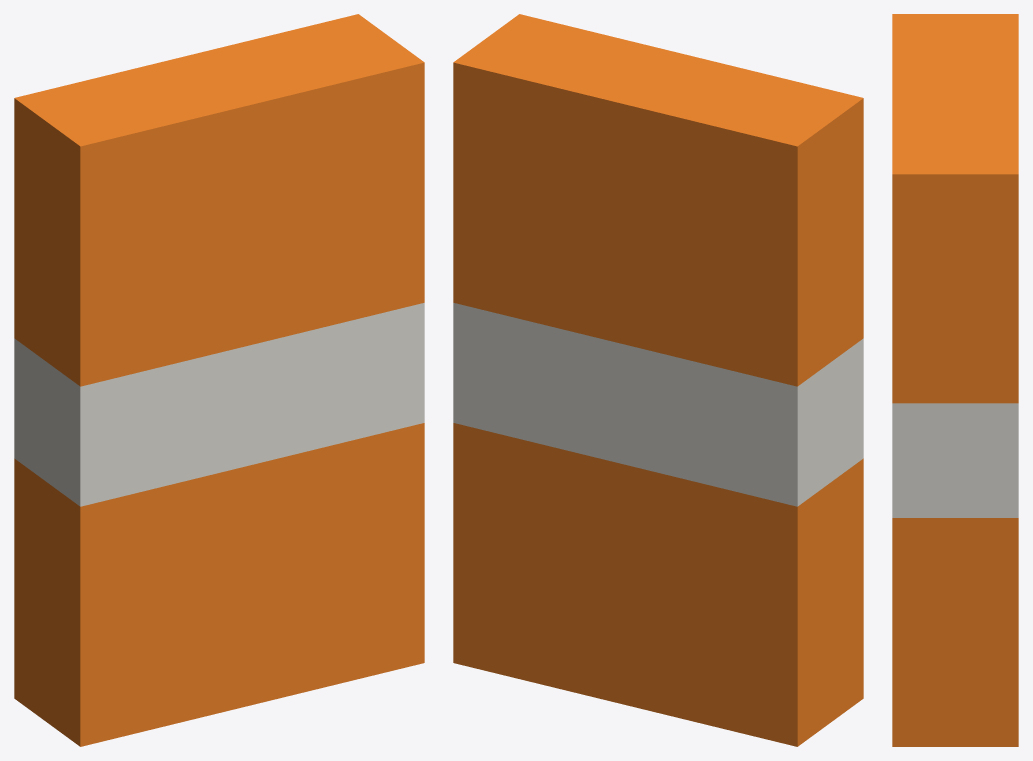
Rendered from cm_cloth_5.glb.
3 renders of one model, left to right at view 1: azimuth 30°, elevation 25°; view 2: azimuth 150°, elevation 25°; view 3: azimuth 270°, elevation 25°, orthographic. The views are drawn at different scales.
Visible parts, largest first — view 1: cm_cloth_5_body; view 2: cm_cloth_5_body; view 3: cm_cloth_5_body.
Part boxes in pixels (left/top/right/bottom): cm_cloth_5_body: left=14, top=14, right=424, bottom=746; cm_cloth_5_body: left=453, top=14, right=863, bottom=746; cm_cloth_5_body: left=892, top=14, right=1018, bottom=746.
Size of the model in its own units: 0.1875 by 0.3125 by 0.0625.
1 material, 1 textured.
